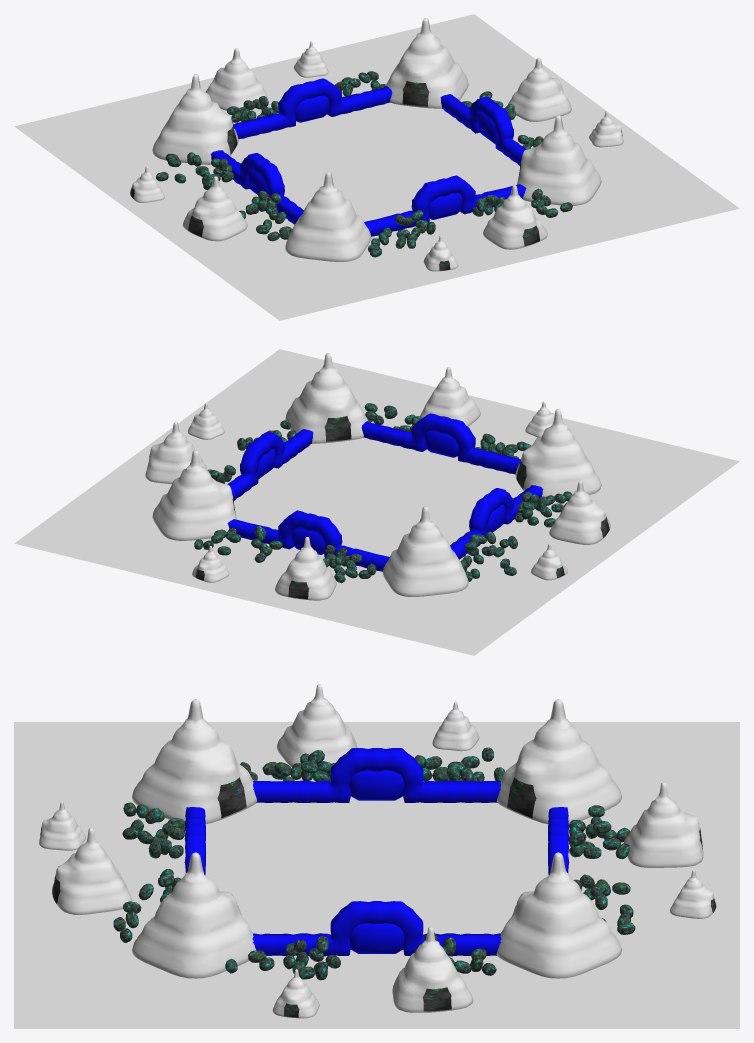
The model's file is BossSecne31.fbx.
3 views of the same model, one above another, from view 1: azimuth 30°, elevation 25°; view 2: azimuth 150°, elevation 25°; view 3: azimuth 270°, elevation 25° (orthographic). The views are drawn at different scales.
Parts seen in each view (by area): view 1: 20m, Houses_Limits.004, Houses_Limits.005, Houses_Limits.003, Houses_Limits, Border_Limits.003, Border_Limits, Houses_Limits.008, Houses_Limits.001, Houses_Limits.006, Border_Limits.001, Houses_Limits.007 (+7 smaller); view 2: 20m, Houses_Limits, Houses_Limits.003, Houses_Limits.005, Houses_Limits.004, Border_Limits, Border_Limits.003, Houses_Limits.007, Houses_Limits.008, Border_Limits.001, Houses_Limits.006, Border_Limits.002 (+7 smaller); view 3: 20m, Houses_Limits.003, Houses_Limits.005, Houses_Limits, Houses_Limits.004, Border_Limits.002, Border_Limits.001, Houses_Limits.007, Houses_Limits.001, Houses_Limits.006, Houses_Limits.008, door.002 (+7 smaller).
Part boxes in pixels (x1,y1,x2,y2): 20m: (14,14,739,320); Houses_Limits.004: (285,171,371,261); Houses_Limits.005: (517,115,601,205); Houses_Limits.003: (385,18,468,108); Houses_Limits: (152,74,238,164); Border_Limits.003: (233,78,392,139); Border_Limits: (364,175,526,236); Houses_Limits.008: (182,176,247,241); Houses_Limits.001: (483,185,547,249); Houses_Limits.006: (508,57,571,121); Border_Limits.001: (440,94,526,165); Houses_Limits.007: (205,48,268,110); 20m: (14,349,739,655); Houses_Limits: (382,506,468,596); Houses_Limits.003: (152,450,236,540); Houses_Limits.005: (285,353,368,443); Houses_Limits.004: (515,409,601,497); Border_Limits: (361,413,520,474); Border_Limits.003: (227,510,389,571); Houses_Limits.007: (275,537,336,600); Houses_Limits.008: (549,480,610,544); Border_Limits.001: (227,429,313,500); Houses_Limits.006: (145,421,206,483); Border_Limits.002: (450,485,543,559); 20m: (14,722,739,1028); Houses_Limits.003: (496,852,621,978); Houses_Limits.005: (132,852,255,978); Houses_Limits: (497,699,621,823); Houses_Limits.004: (132,699,256,823); Border_Limits.002: (253,748,500,802); Border_Limits.001: (252,901,501,956); Houses_Limits.007: (624,782,703,867); Houses_Limits.001: (52,827,132,914); Houses_Limits.006: (392,926,473,1012); Houses_Limits.008: (276,684,357,766); door.002: (349,923,404,953).
Bounding box in the file's own units: 2000 × 308 × 2000.
